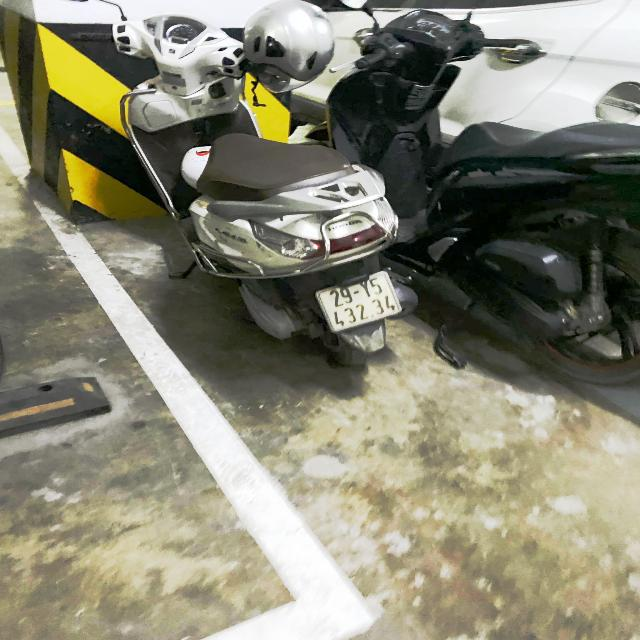license_plate: (314, 270, 406, 335)
